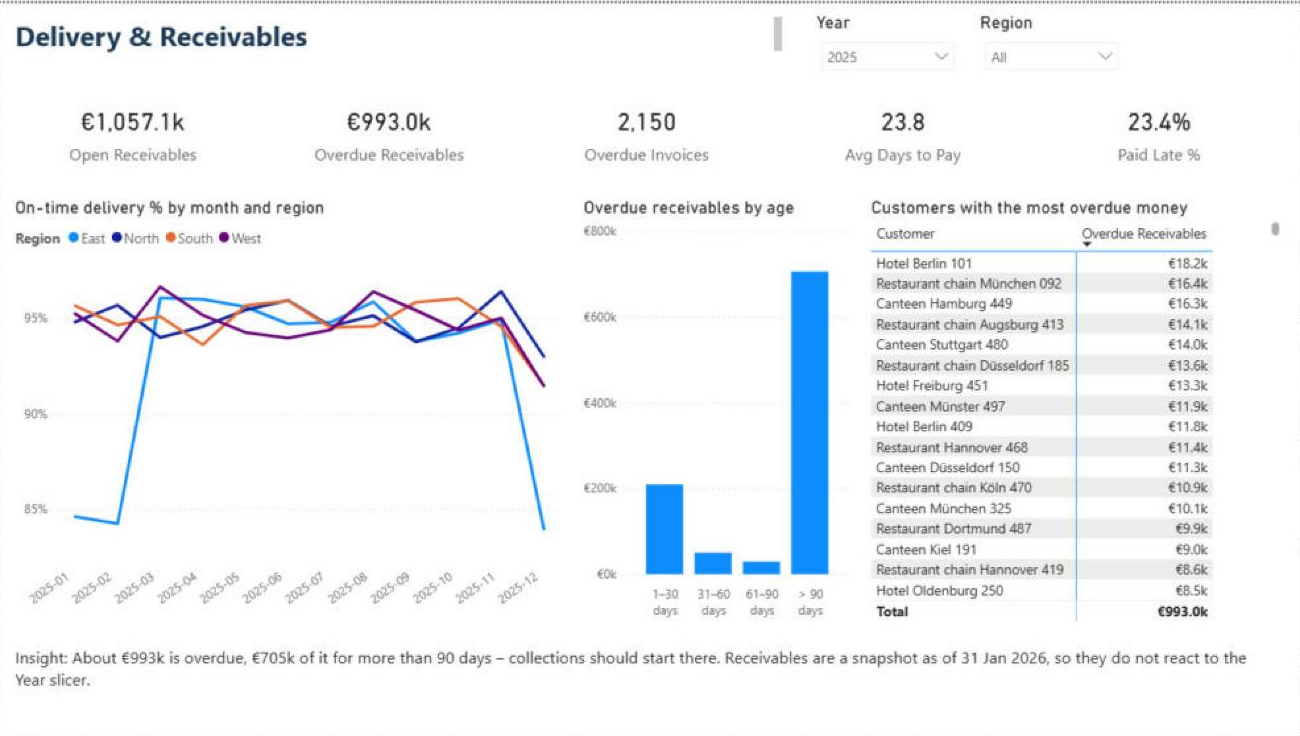

Layout of this report page (visuals, bound fields, positions):
{"tool":"powerbi","page":{"name":"Delivery & Receivables","canvas":[1280,720],"ordinal":3},"visuals":[{"type":"textbox","box":[16,8,760,44],"z":1000},{"type":"slicer","title":"Year","fields":{"Values":["DimDate.Year"]},"box":[800,8,150,62],"z":2000},{"type":"slicer","title":"Region","fields":{"Values":["DimCustomer.region"]},"box":[960,8,150,62],"z":3000},{"type":"card","fields":{"Values":["_Measures.Open Receivables"]},"box":[16,76,241,100],"z":4000},{"type":"card","fields":{"Values":["_Measures.Overdue Receivables"]},"box":[267,76,241,100],"z":5000},{"type":"card","fields":{"Values":["_Measures.Overdue Invoices"]},"box":[518,76,241,100],"z":6000},{"type":"card","fields":{"Values":["_Measures.Avg Days to Pay"]},"box":[769,76,241,100],"z":7000},{"type":"card","fields":{"Values":["_Measures.Paid Late %"]},"box":[1020,76,241,100],"z":8000},{"type":"lineChart","title":"On-time delivery % by month and region","fields":{"Category":["DimDate.Year-Month"],"Y":["_Measures.On-Time Delivery %"],"Series":["DimCustomer.region"]},"box":[16,190,544,420],"z":9000},{"type":"clusteredColumnChart","title":"Overdue receivables by age","fields":{"Category":["FactInvoices.overdue_age"],"Y":["_Measures.Overdue Receivables"]},"box":[572,190,270,420],"z":10000},{"type":"pivotTable","title":"Customers with the most overdue money","fields":{"Rows":["DimCustomer.customer_name"],"Values":["_Measures.Overdue Receivables"]},"box":[854,190,410,420],"z":11000},{"type":"textbox","box":[16,624,1248,80],"z":12000}]}

Visuals, with their boxes in screenshot pixels (x1, y1, x2, y2), scaled from the page's 1280x720 canvas onto the 1300x736 screenshot:
textbox: (16,8,788,53)
"Year" slicer: (812,8,965,72)
"Region" slicer: (975,8,1127,72)
card - _Measures.Open Receivables: (16,78,261,180)
card - _Measures.Overdue Receivables: (271,78,516,180)
card - _Measures.Overdue Invoices: (526,78,771,180)
card - _Measures.Avg Days to Pay: (781,78,1026,180)
card - _Measures.Paid Late %: (1036,78,1281,180)
"On-time delivery % by month and region" lineChart: (16,194,569,624)
"Overdue receivables by age" clusteredColumnChart: (581,194,855,624)
"Customers with the most overdue money" pivotTable: (867,194,1284,624)
textbox: (16,638,1284,720)
